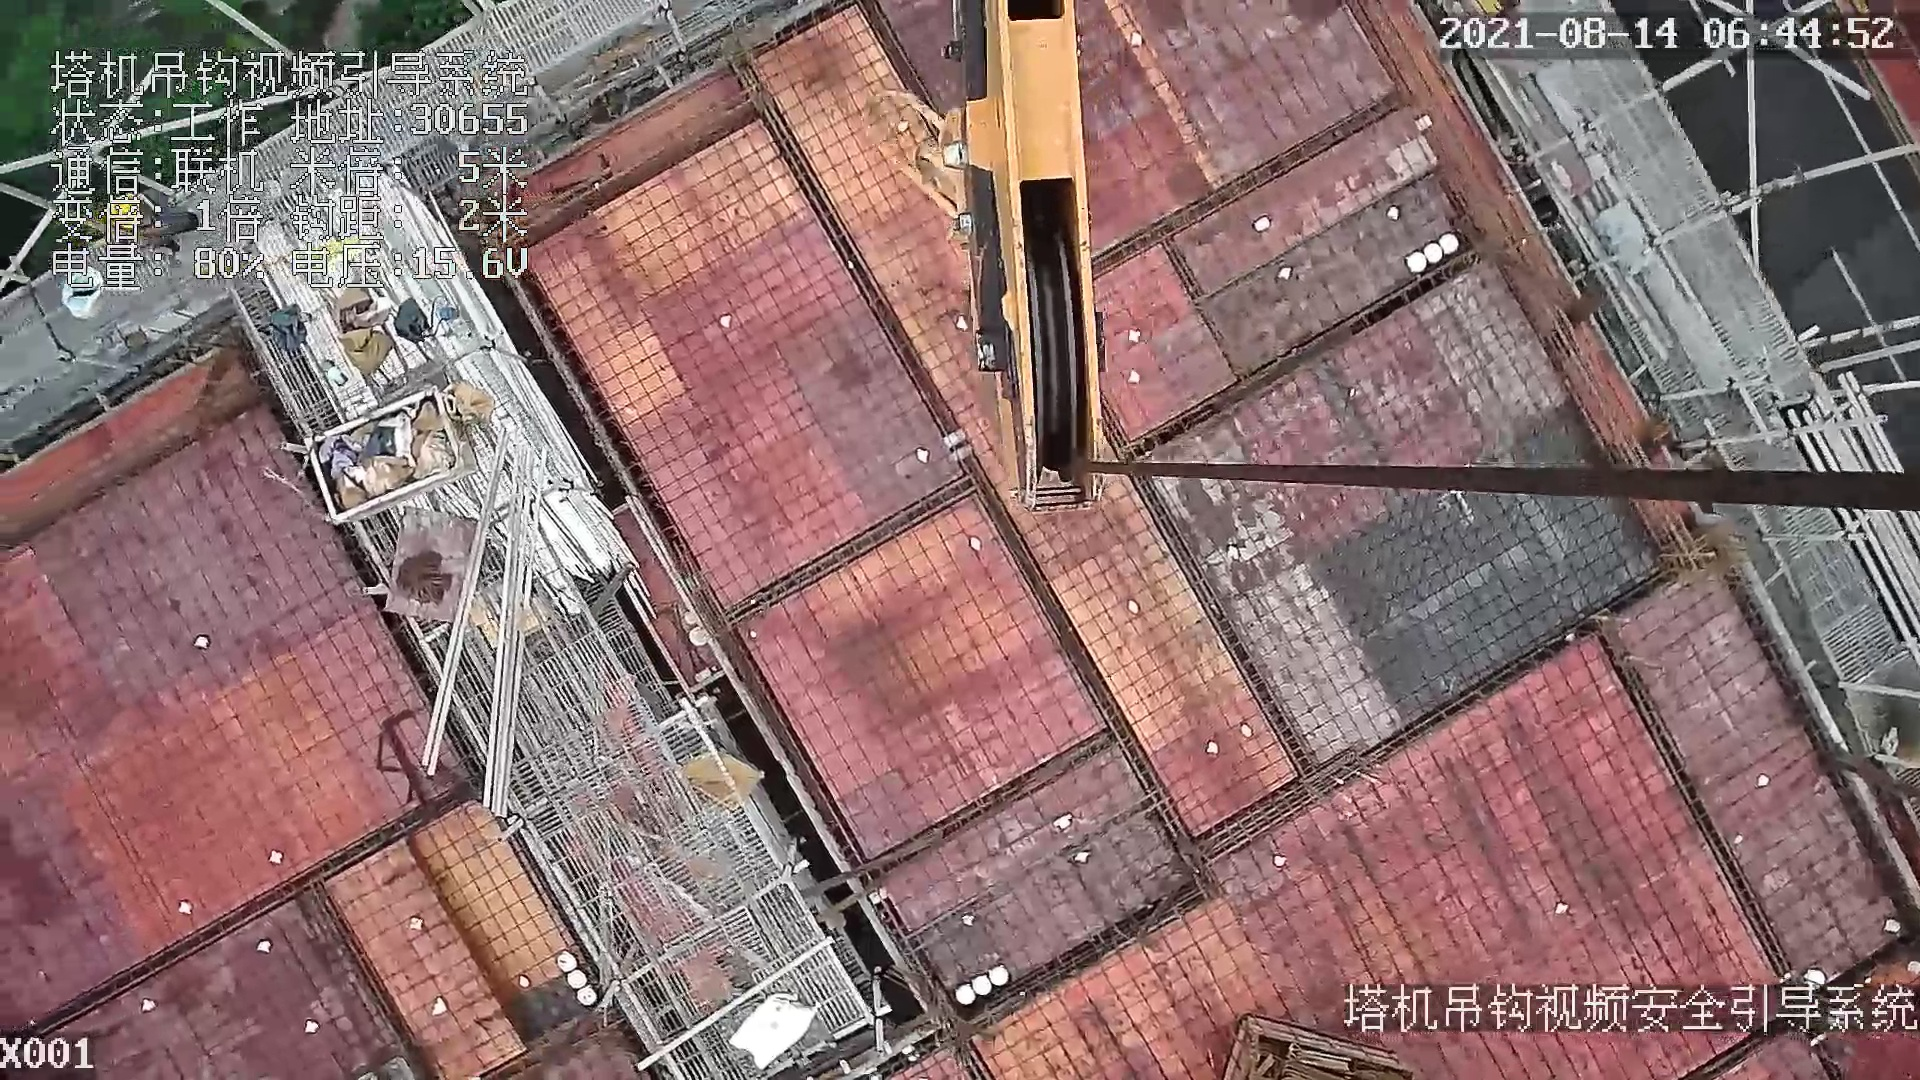hook: (858, 4, 1116, 518)
